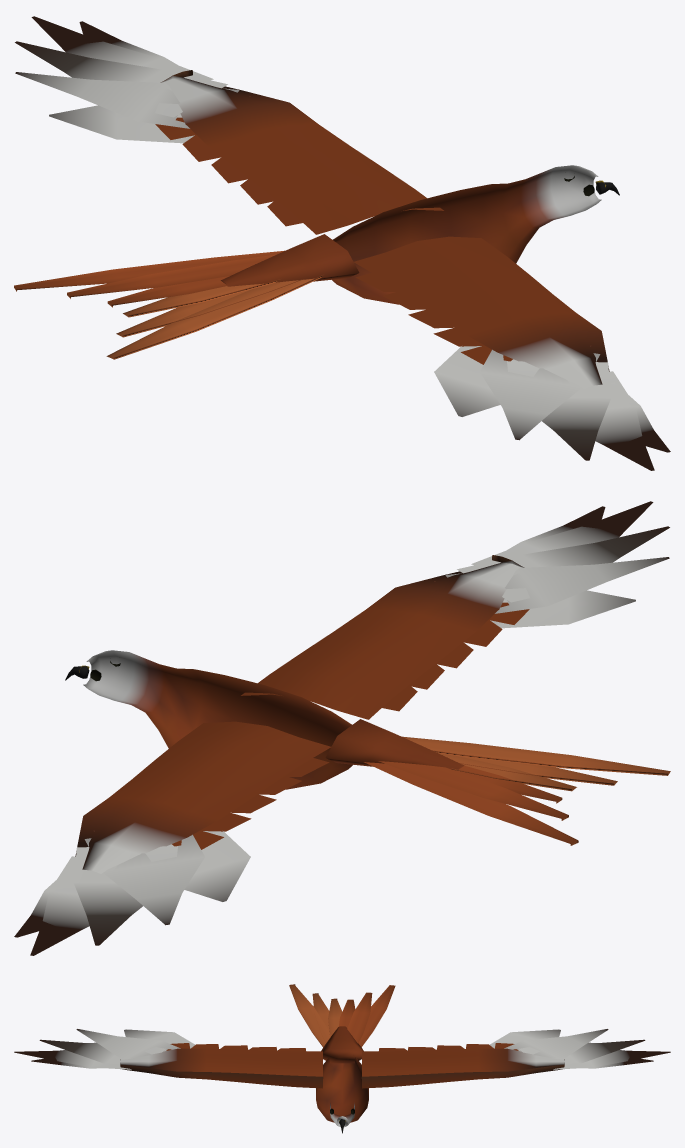
File: SM_Bird_red_kite_glide_LOD1.glb
3 views of the same model, one above another, from view 1: azimuth 30°, elevation 25°; view 2: azimuth 150°, elevation 25°; view 3: azimuth 270°, elevation 25° (orthographic). The views are drawn at different scales.
Visible parts, largest first — view 1: SM_Bird_red_kite_glide_LOD1; view 2: SM_Bird_red_kite_glide_LOD1; view 3: SM_Bird_red_kite_glide_LOD1.
Boxes of the visible parts, <box> form: SM_Bird_red_kite_glide_LOD1: <box>14,16,670,470</box>; SM_Bird_red_kite_glide_LOD1: <box>14,501,670,955</box>; SM_Bird_red_kite_glide_LOD1: <box>14,984,670,1133</box>.
Size of the model in its own units: 0.8051 by 0.1391 by 1.55.
